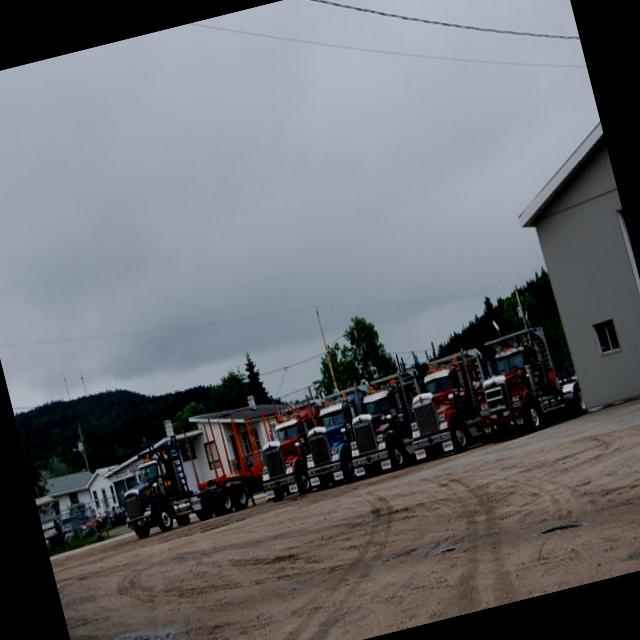Vehicle: (449, 275, 589, 442), (105, 418, 252, 543), (392, 342, 503, 462), (333, 367, 440, 481), (242, 392, 340, 504), (288, 380, 382, 492)
